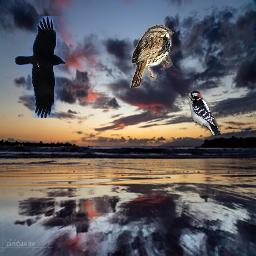Crow: (15, 16, 65, 118)
Sparrow: (130, 24, 174, 89)
Woodpecker: (185, 90, 221, 136)
